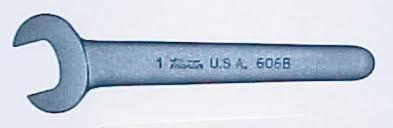wrench: (11, 11, 375, 114)
